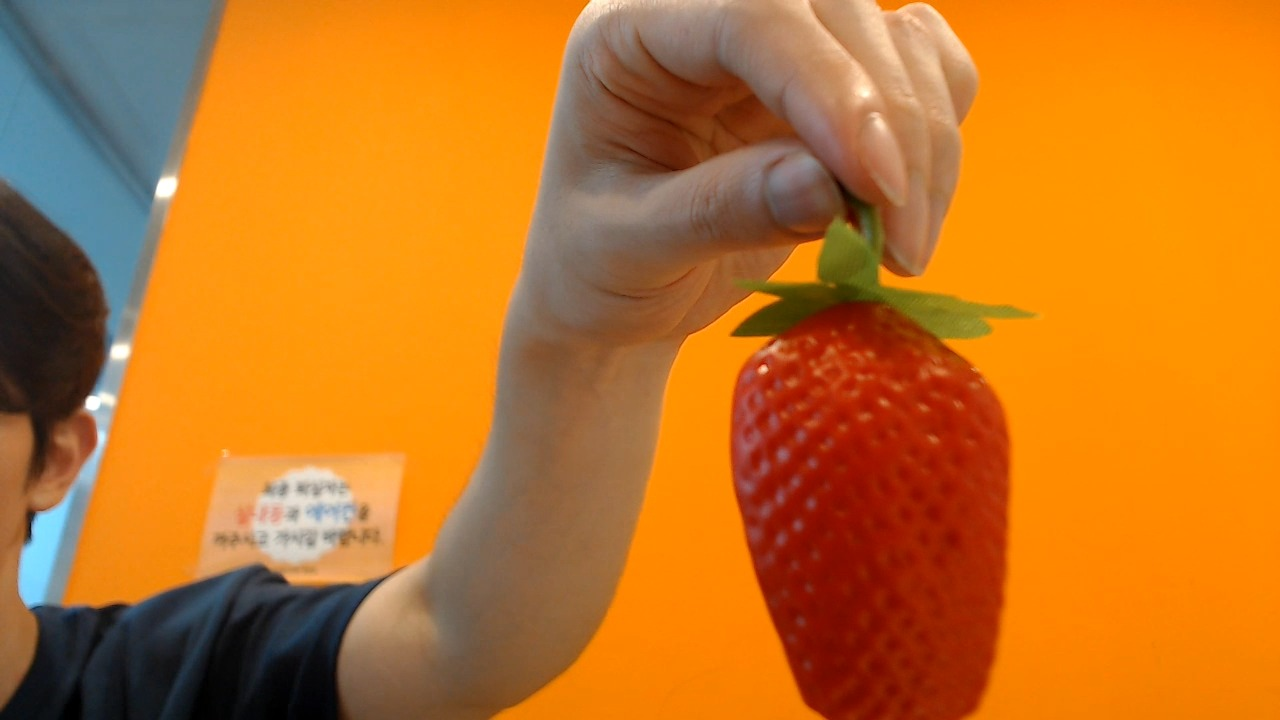strawberry: (730, 272, 1011, 718)
